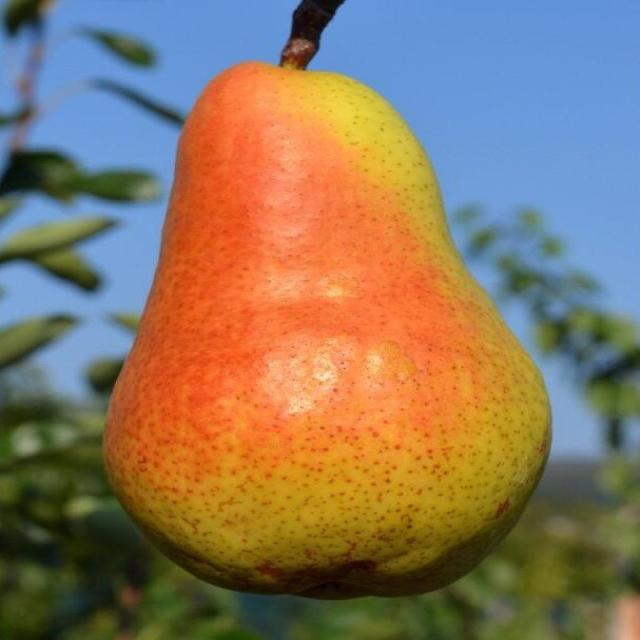pear: (98, 58, 556, 601)
